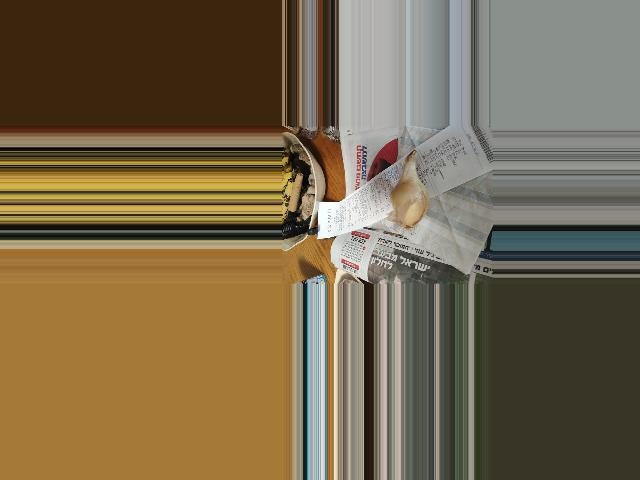onion: (390, 167, 425, 232)
